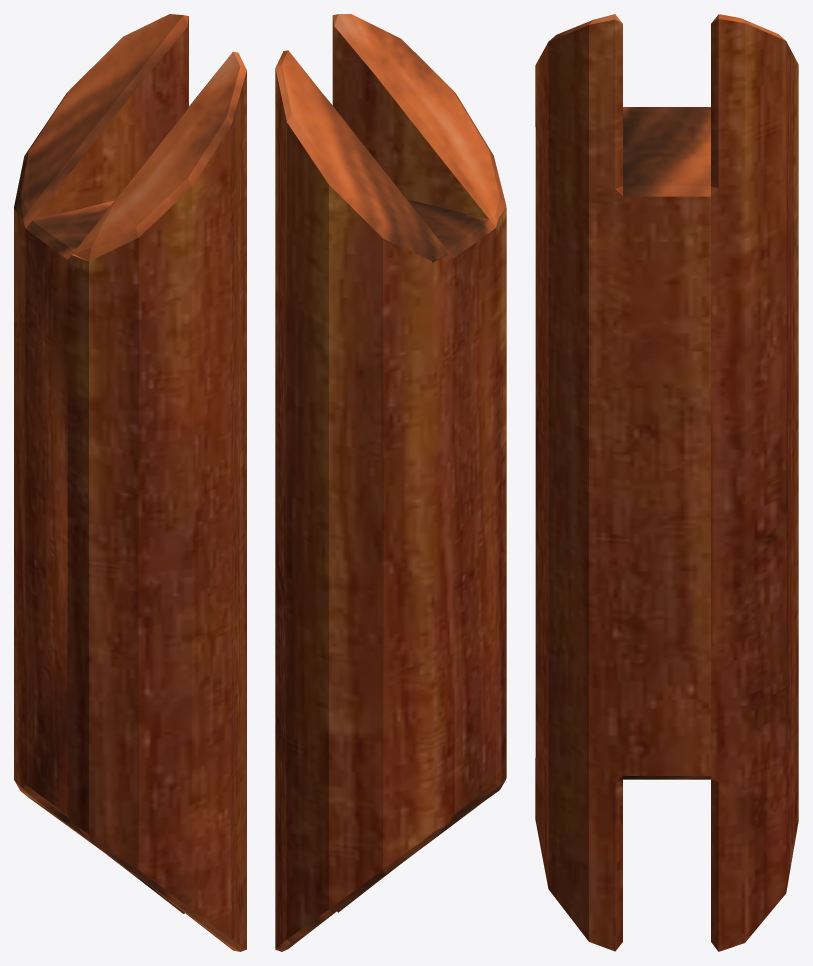
Rendered from SJ_J_hua_1_011.FBX.
3 views of the same model, side by side, from view 1: azimuth 30°, elevation 25°; view 2: azimuth 150°, elevation 25°; view 3: azimuth 270°, elevation 25° (orthographic). The views are drawn at different scales.
Visible parts, largest first — view 1: SJ_J_hua_1_011; view 2: SJ_J_hua_1_011; view 3: SJ_J_hua_1_011.
Part boxes in pixels (x1,y1,x2,y2): SJ_J_hua_1_011: (14, 14, 246, 951); SJ_J_hua_1_011: (275, 14, 506, 951); SJ_J_hua_1_011: (535, 14, 798, 951).
Bounding box in the file's own units: 1.54 × 7.85 × 2.
Materials: 2 (2 with a texture image).
